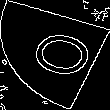O_E: (14, 26, 96, 84)
